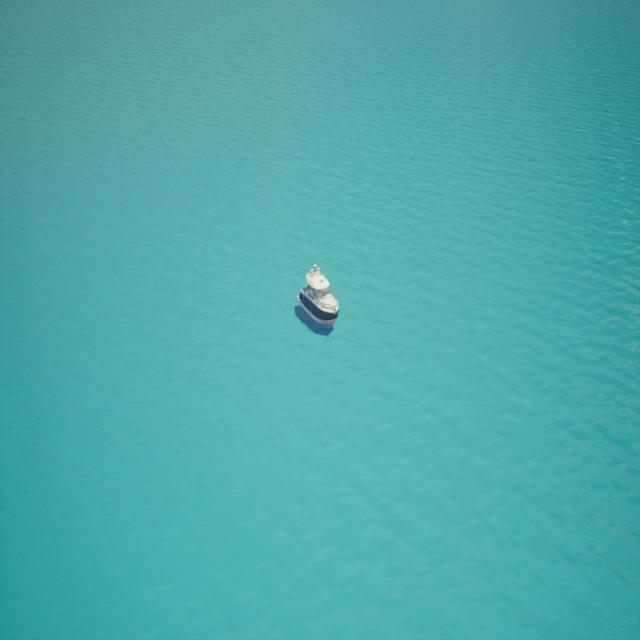ship: (296, 262, 339, 331)
